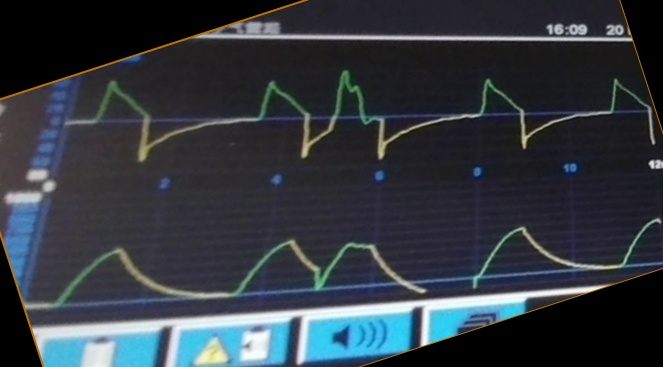Double_Triggering Flow: (93, 70, 641, 163)
Double_Triggering Volume: (67, 217, 657, 299)
